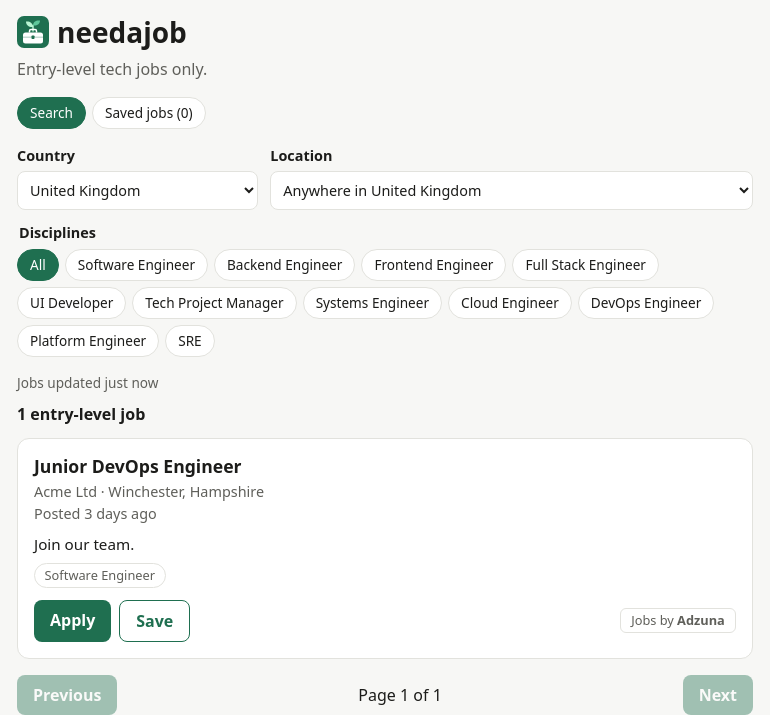
Test case: Saved Jobs › still lets you save when browser storage is blocked
Click the button "Save".
click(155, 621)  # box [119,600,190,642]
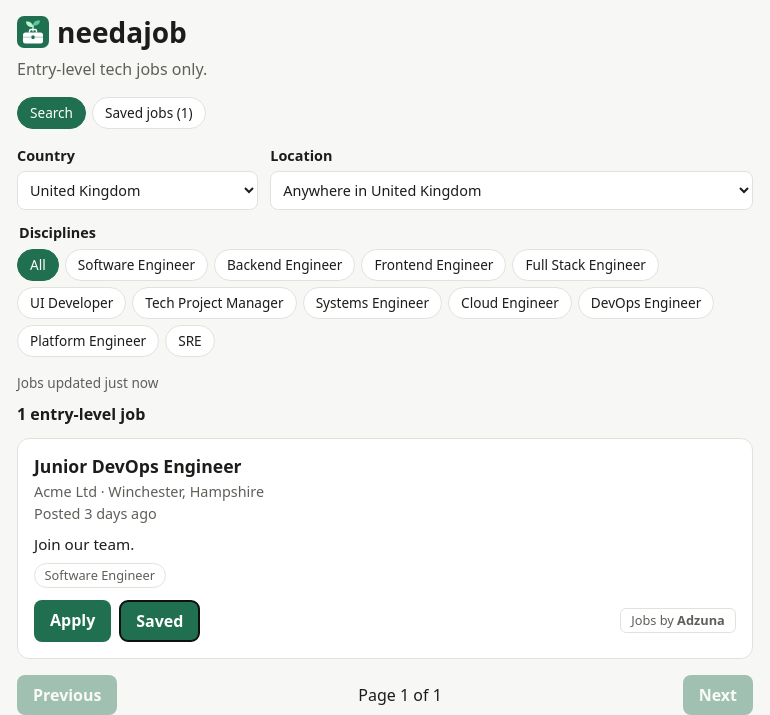
Check: the button "Saved jobs (1)" is shown, box [92,97,206,129]
